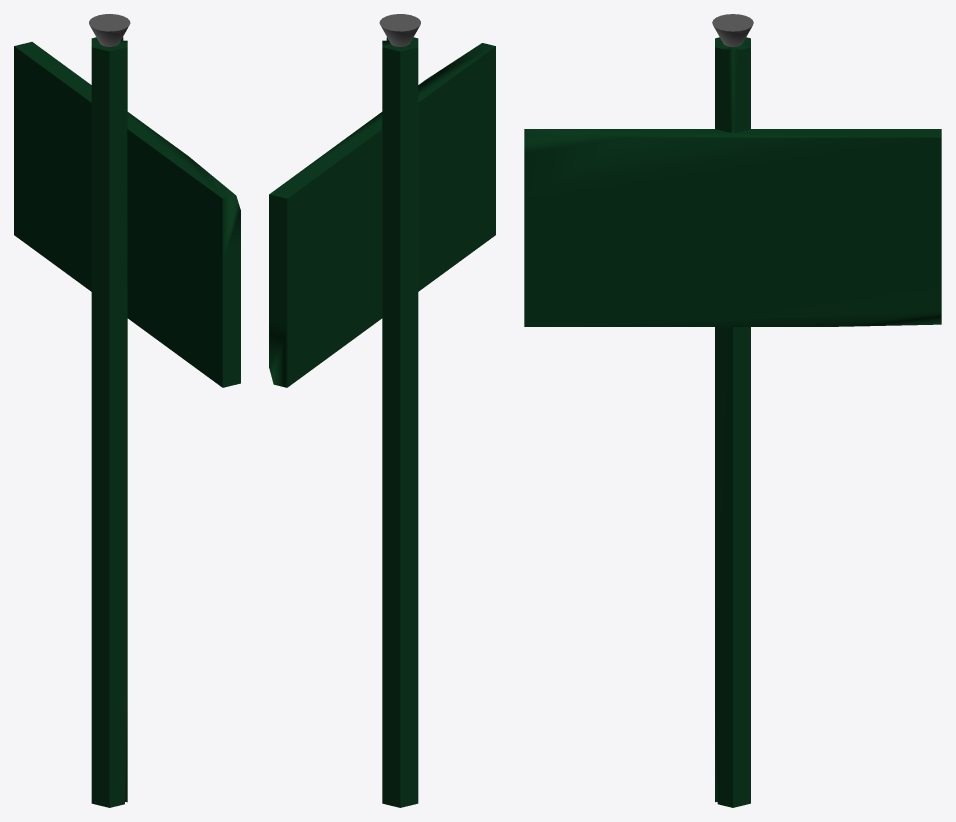
File: Checkpoint.fbx
3 renders of one model, left to right at view 1: azimuth 30°, elevation 25°; view 2: azimuth 150°, elevation 25°; view 3: azimuth 270°, elevation 25°, orthographic.
Visible parts, largest first — view 1: pCube2; view 2: pCube2; view 3: pCube2.
Part boxes in pixels (left/top/right/bottom): pCube2: left=14, top=14, right=240, bottom=807; pCube2: left=269, top=14, right=495, bottom=807; pCube2: left=524, top=14, right=941, bottom=807.
Bounding box in the file's own units: 2.49 × 41.06 × 20.
